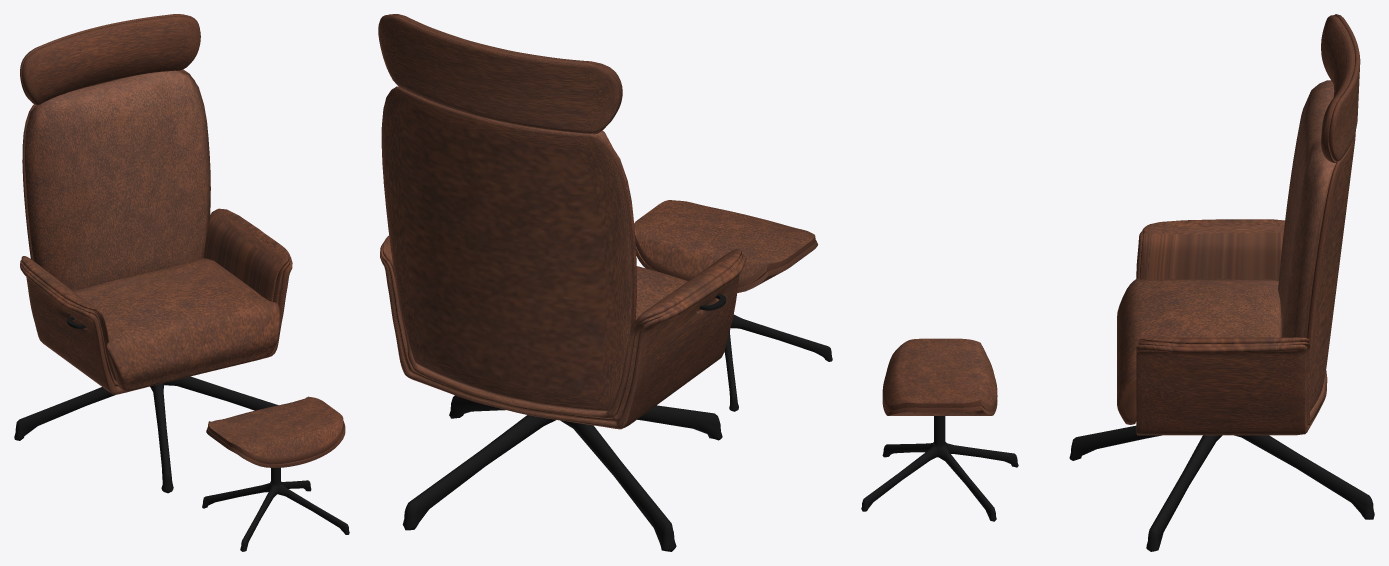
File: sf-ch-tufted.glb
3 views of the same model, side by side, from view 1: azimuth 30°, elevation 25°; view 2: azimuth 150°, elevation 25°; view 3: azimuth 270°, elevation 25° (orthographic). The views are drawn at different scales.
Visible parts, largest first — view 1: pCube4, pCube6, pCube9, pCube2, pCube11, pCylinder1, pCylinder2, pCube12, pCube1, pCube3; view 2: pCube3, pCube1, pCube9, pCube11, pCylinder1, pCylinder2, pCube6, pCube4, pCube2, pCube12; view 3: pCube9, pCube6, pCube4, pCube11, pCylinder1, pCube3, pCylinder2, pCube2, pCube1, pCube12.
Boxes of the visible parts, box(x1,y1,x2,y2) form: pCube4: box(25, 70, 210, 291); pCube6: box(74, 258, 279, 391); pCube9: box(20, 208, 292, 394); pCube2: box(22, 16, 200, 105); pCube11: box(207, 396, 343, 464); pCylinder1: box(14, 376, 278, 493); pCylinder2: box(202, 467, 349, 551); pCube12: box(206, 421, 345, 467); pCube1: box(20, 14, 199, 100); pCube3: box(22, 69, 194, 260); pCube3: box(381, 86, 634, 412); pCube1: box(378, 15, 621, 133); pCube9: box(380, 235, 746, 429); pCube11: box(634, 200, 815, 287); pCylinder1: box(402, 395, 722, 551); pCylinder2: box(724, 314, 832, 411); pCube6: box(636, 266, 687, 319); pCube4: box(595, 130, 636, 322); pCube2: box(388, 14, 622, 134); pCube12: box(636, 240, 817, 292); pCube9: box(1136, 219, 1327, 435); pCube6: box(1117, 278, 1281, 424); pCube4: box(1278, 80, 1335, 337); pCube11: box(882, 338, 997, 411); pCylinder1: box(1069, 425, 1374, 551); pCube3: box(1307, 130, 1355, 411); pCylinder2: box(861, 416, 1018, 521); pCube2: box(1321, 15, 1354, 162); pCube1: box(1328, 14, 1360, 161); pCube12: box(882, 400, 997, 415).
Bounding box in the file's own units: 98.04 × 153 × 164.
3 materials, 2 textured.
